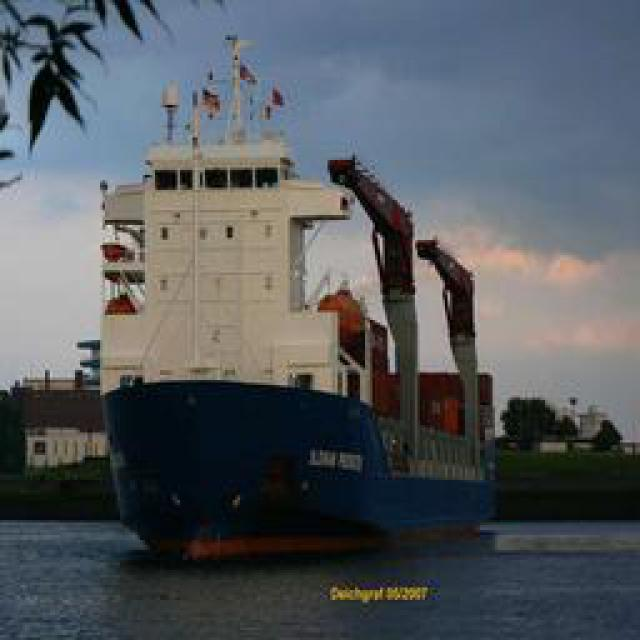Ship: (95, 22, 433, 570)
